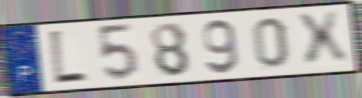0: (250, 15, 294, 71)
5: (95, 21, 142, 84)
8: (149, 21, 192, 78)
9: (201, 18, 241, 77)
L: (46, 28, 89, 88)
X: (293, 9, 352, 70)
